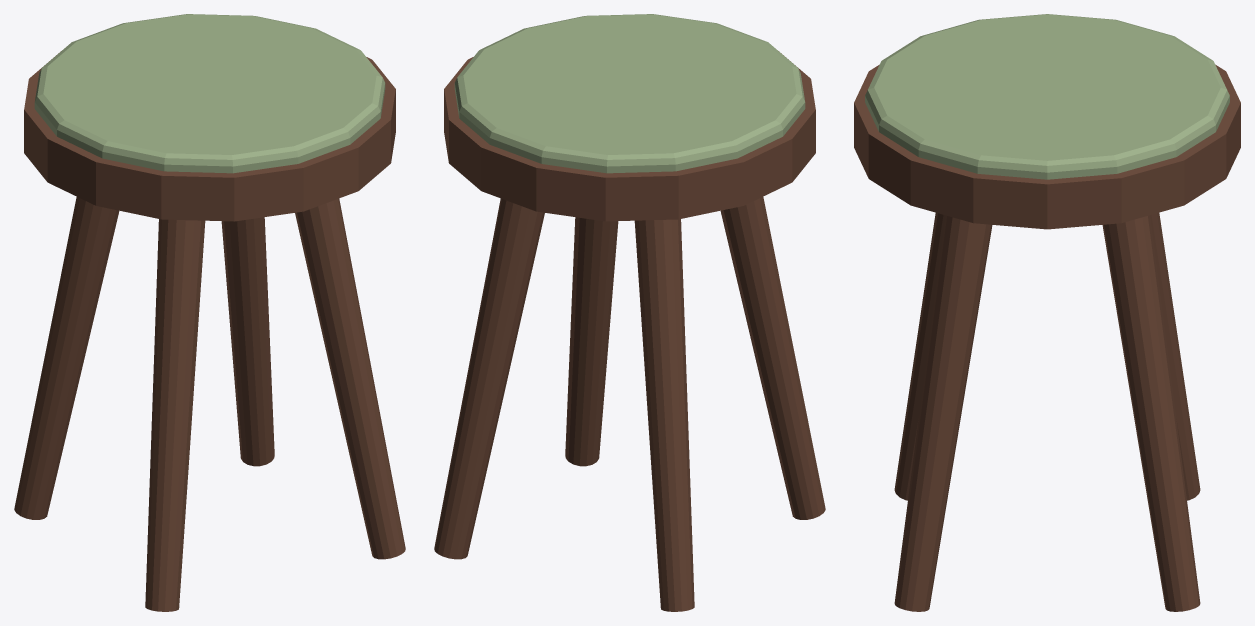
File: sc_stool.glb
3 renders of one model, left to right at view 1: azimuth 30°, elevation 25°; view 2: azimuth 150°, elevation 25°; view 3: azimuth 270°, elevation 25°, orthographic. The views are drawn at different scales.
Visible parts, largest first — view 1: stool; view 2: stool; view 3: stool.
Boxes of the visible parts, x1=… form: stool: x1=14, y1=14, x2=405, y2=611; stool: x1=434, y1=14, x2=825, y2=611; stool: x1=854, y1=14, x2=1240, y2=611.
Size of the model in its own units: 0.35 by 0.4639 by 0.35.
